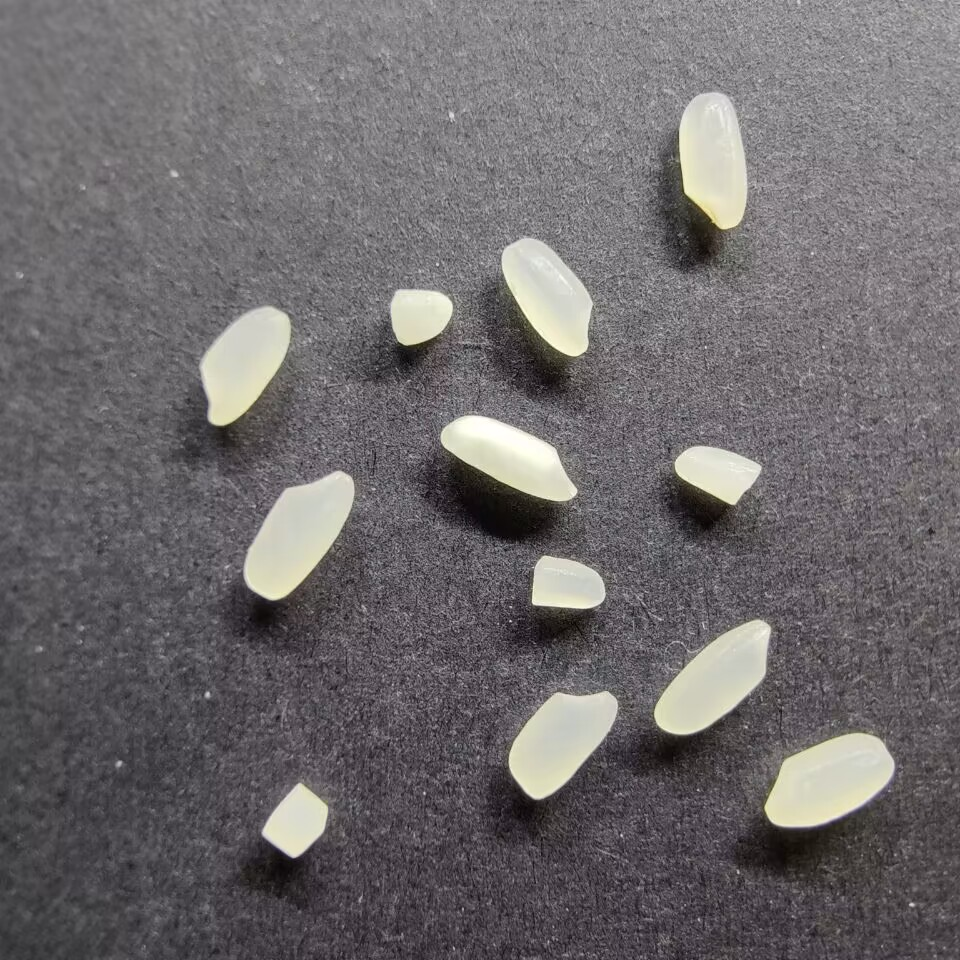broken: (257, 780, 333, 859), (671, 444, 764, 507), (526, 554, 609, 612), (387, 285, 455, 347)
rice: (239, 469, 357, 602), (653, 615, 770, 739), (505, 685, 621, 804), (760, 730, 896, 829), (439, 412, 580, 505), (498, 235, 597, 357), (197, 304, 293, 428), (676, 91, 752, 228)
